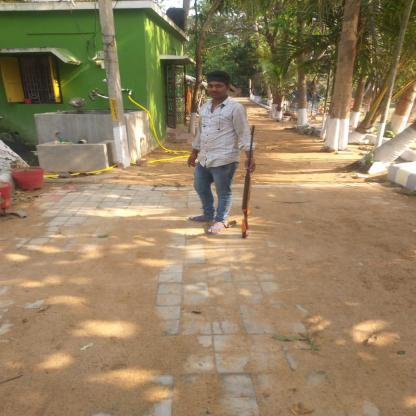rifle: (240, 124, 257, 240)
